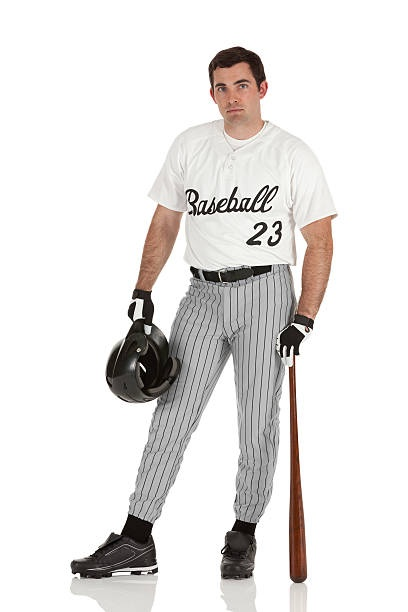bita: (283, 332, 322, 588)
